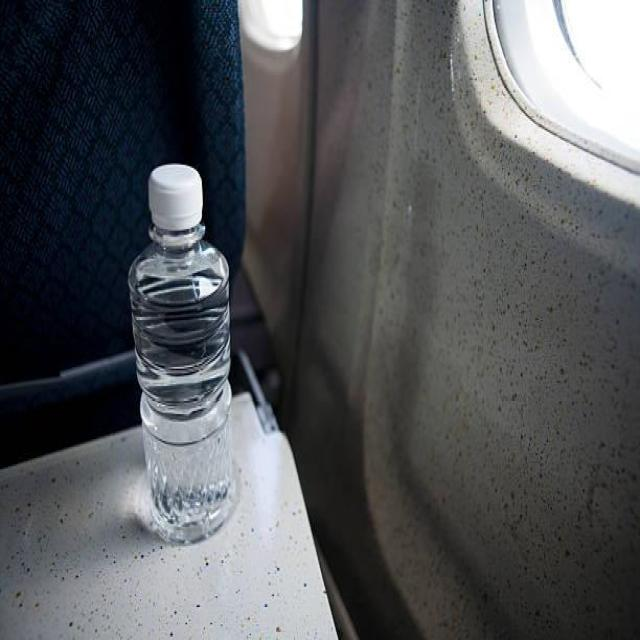high: (128, 165, 233, 538)
